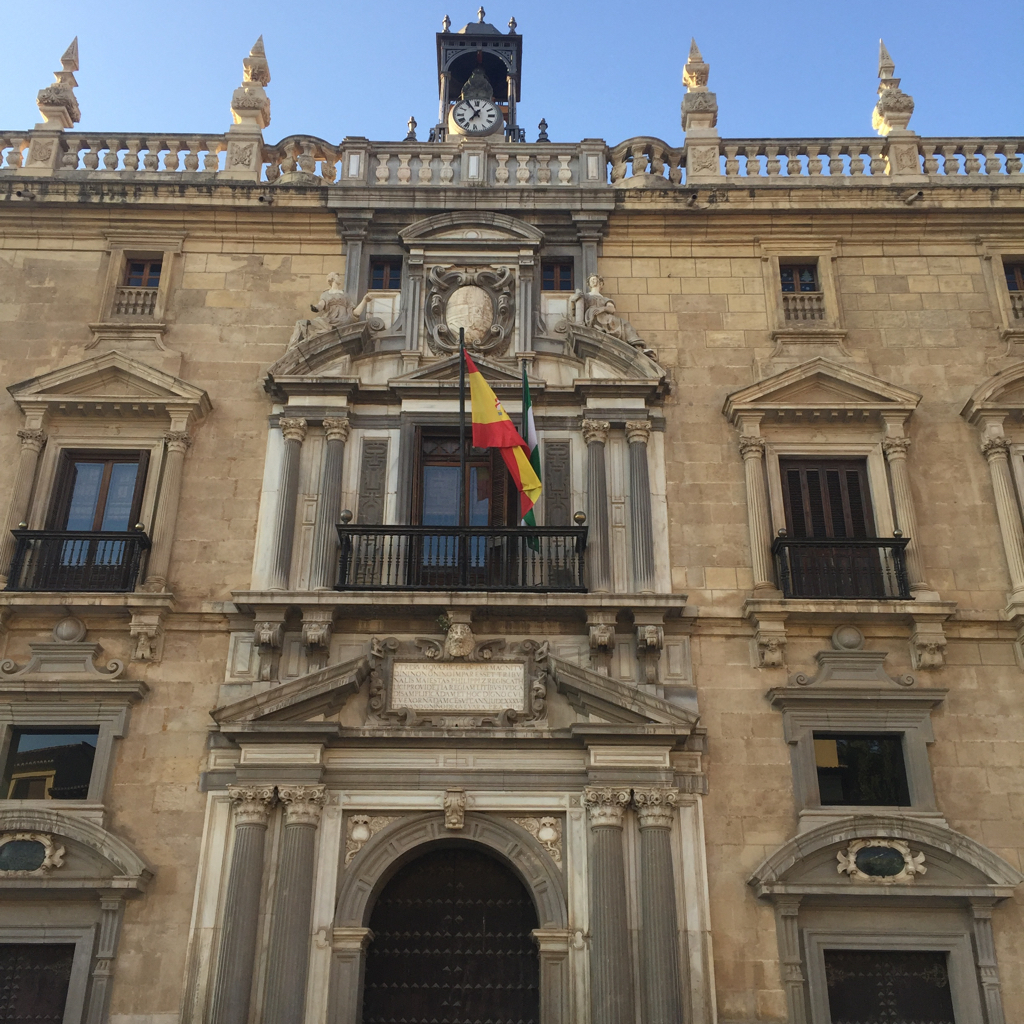arco-medio-punto: (354, 831, 550, 967)
fronton: (5, 349, 211, 413), (722, 355, 925, 417), (385, 347, 548, 394)
fronton-curvo: (748, 813, 1024, 898), (1, 810, 153, 896), (397, 206, 547, 249)
fronton-partido: (205, 652, 708, 740), (264, 317, 671, 394)
vano-adintelado: (752, 435, 910, 602), (14, 434, 170, 594), (394, 407, 516, 589)
